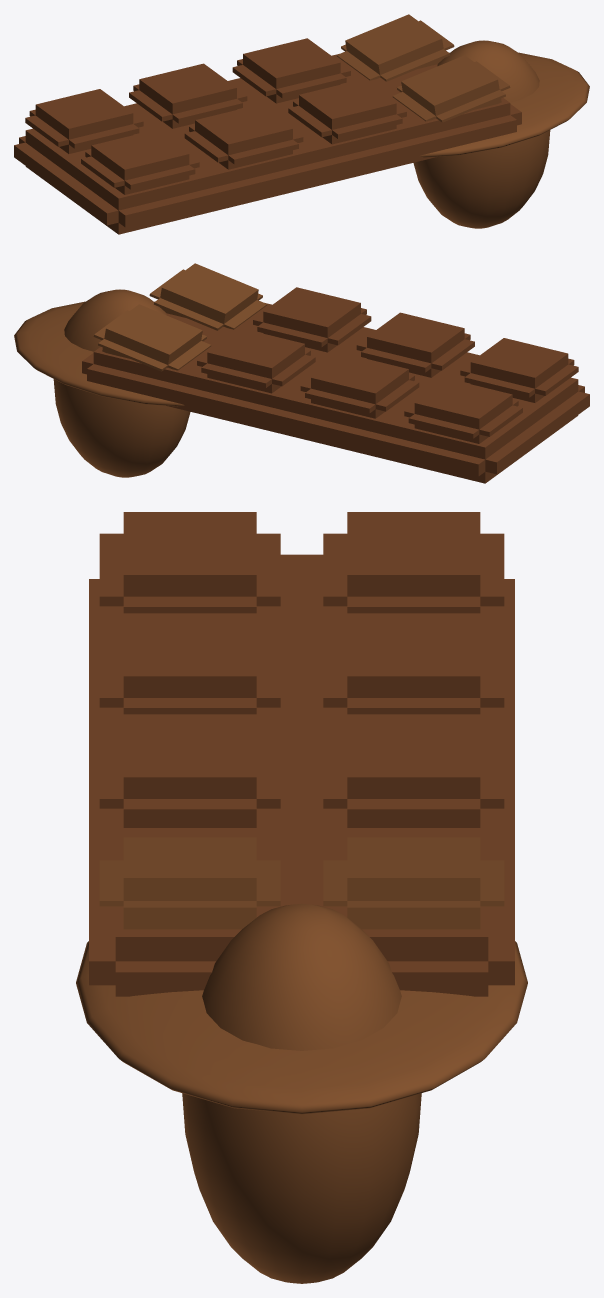
File: chocolate.glb
3 views of the same model, one above another, from view 1: azimuth 30°, elevation 25°; view 2: azimuth 150°, elevation 25°; view 3: azimuth 270°, elevation 25° (orthographic). The views are drawn at different scales.
Parts seen in each view (by area): view 1: BarBase, ChocDrip, BarSeg, BarSeg.002, BarSeg.004, ChocPuddle, BarSeg.006, BarSeg.001, BarSeg.003, BarSeg.005, BarSeg.007; view 2: BarBase, ChocDrip, BarSeg.001, BarSeg.003, BarSeg.005, ChocPuddle, BarSeg.007, BarSeg, BarSeg.002, BarSeg.004, BarSeg.006; view 3: ChocDrip, BarBase, ChocPuddle, BarSeg.004, BarSeg.005, BarSeg, BarSeg.001, BarSeg.002, BarSeg.003, BarSeg.006, BarSeg.007.
Boxes of the visible parts, left/top/right/bottom form: BarBase: left=14, top=54, right=521, bottom=234; ChocDrip: left=413, top=40, right=550, bottom=228; BarSeg: left=81, top=130, right=199, bottom=194; BarSeg.002: left=184, top=104, right=303, bottom=169; BarSeg.004: left=288, top=79, right=406, bottom=144; ChocPuddle: left=419, top=52, right=589, bottom=157; BarSeg.006: left=392, top=55, right=510, bottom=122; BarSeg.001: left=25, top=89, right=143, bottom=153; BarSeg.003: left=129, top=63, right=247, bottom=128; BarSeg.005: left=232, top=38, right=350, bottom=103; BarSeg.007: left=336, top=14, right=454, bottom=81; BarBase: left=82, top=303, right=589, bottom=483; ChocDrip: left=53, top=289, right=190, bottom=477; BarSeg.001: left=404, top=379, right=522, bottom=443; BarSeg.003: left=300, top=353, right=419, bottom=418; BarSeg.005: left=197, top=328, right=315, bottom=393; ChocPuddle: left=14, top=301, right=184, bottom=406; BarSeg.007: left=93, top=304, right=211, bottom=371; BarSeg: left=460, top=338, right=578, bottom=402; BarSeg.002: left=356, top=312, right=474, bottom=377; BarSeg.004: left=253, top=287, right=371, bottom=352; BarSeg.006: left=149, top=263, right=267, bottom=330; ChocDrip: left=182, top=903, right=421, bottom=1283; BarBase: left=89, top=554, right=514, bottom=996; ChocPuddle: left=76, top=941, right=527, bottom=1114; BarSeg.004: left=99, top=714, right=280, bottom=827; BarSeg.005: left=323, top=714, right=504, bottom=827; BarSeg: left=99, top=512, right=280, bottom=613; BarSeg.001: left=323, top=512, right=504, bottom=613; BarSeg.002: left=99, top=613, right=280, bottom=714; BarSeg.003: left=323, top=613, right=504, bottom=714; BarSeg.006: left=99, top=837, right=280, bottom=929; BarSeg.007: left=323, top=837, right=504, bottom=929.
Bounding box in the file's own units: 0.45 × 0.154 × 0.17.
